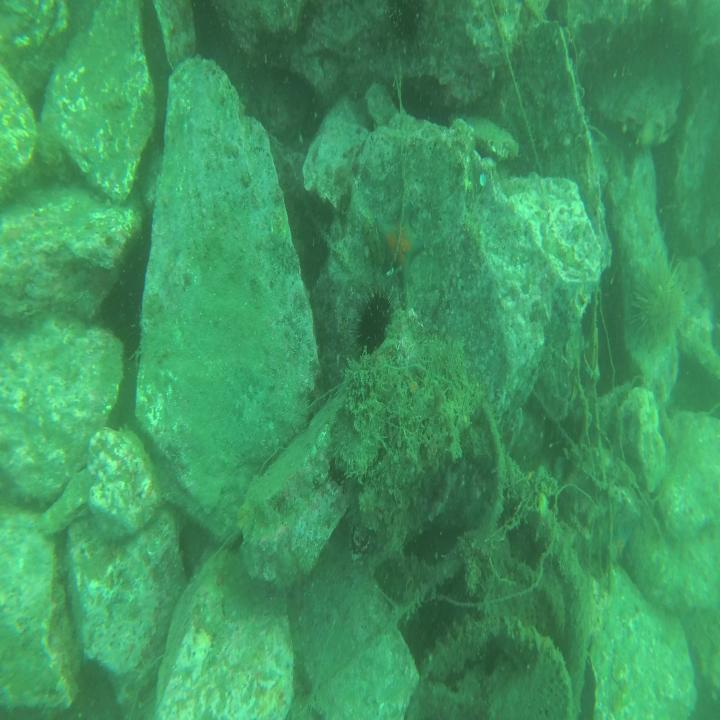echinus: (628, 247, 693, 368), (349, 278, 393, 358), (380, 0, 432, 51)
starfish: (374, 205, 426, 292), (607, 520, 635, 570)
